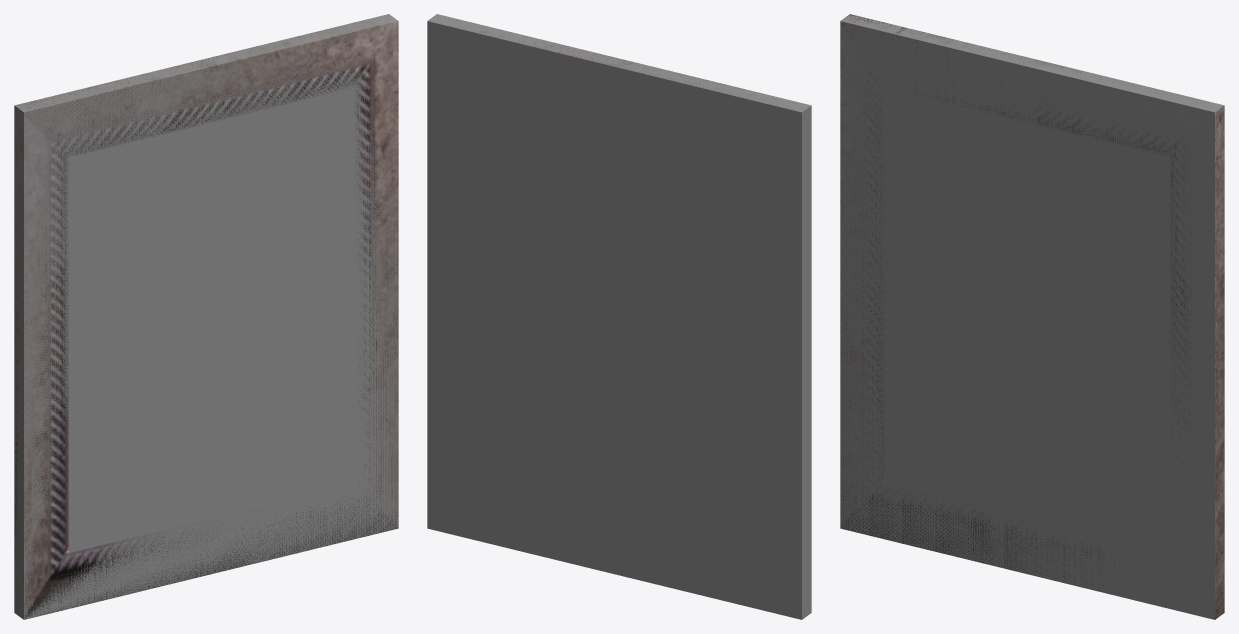
File: picture_08.FBX
The picture shows the model from 3 angles, left to right: view 1: azimuth 30°, elevation 25°; view 2: azimuth 150°, elevation 25°; view 3: azimuth 330°, elevation 25°; orthographic projection.
Parts seen in each view (by area): view 1: bounds, painting_eight100; view 2: bounds, painting_eight100; view 3: bounds, painting_eight100.
Part boxes in pixels (x1,y1,x2,y2): bounds: (14, 14, 398, 619); painting_eight100: (14, 14, 398, 619); bounds: (427, 14, 811, 619); painting_eight100: (437, 20, 791, 105); bounds: (840, 15, 1223, 619); painting_eight100: (840, 14, 1224, 619).
Size of the model in its own units: 85.37 by 111 by 3.82.
